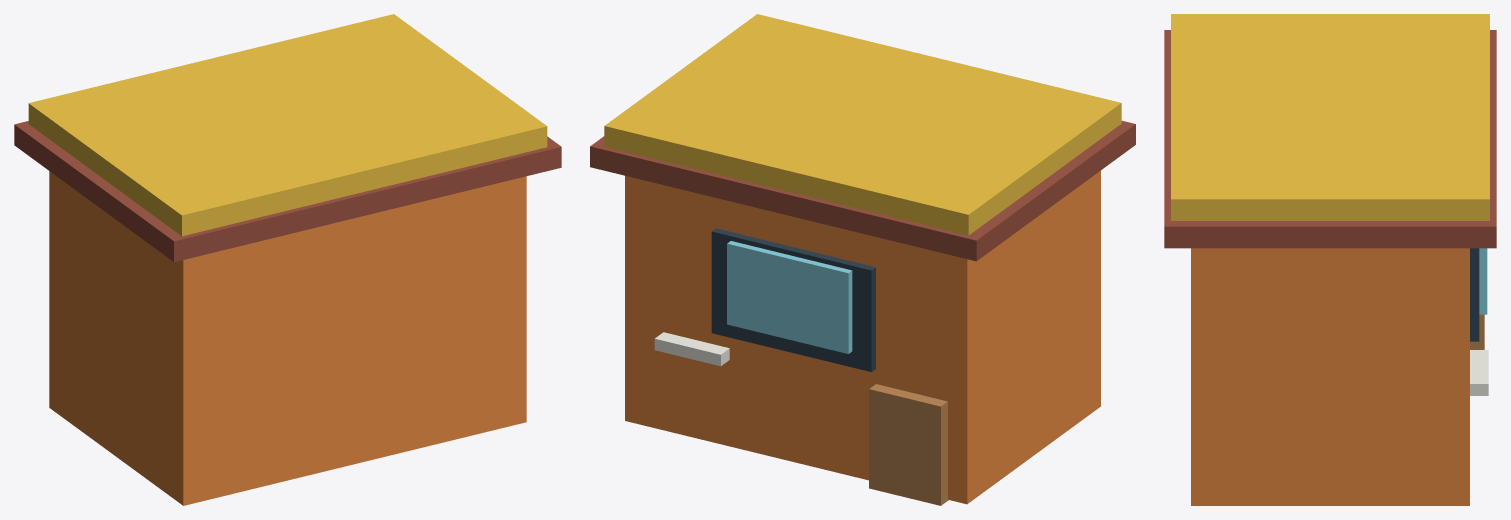
The picture shows the model from 3 angles, left to right: view 1: azimuth 30°, elevation 25°; view 2: azimuth 150°, elevation 25°; view 3: azimuth 270°, elevation 25°; orthographic projection. The views are drawn at different scales.
Visible parts, largest first — view 1: kiosk, roof-cap, awning; view 2: kiosk, roof-cap, awning, window, counter, service-window, menu; view 3: kiosk, roof-cap, awning, service-window, menu, window.
Boxes of the visible parts, x1,y1,x2,y2 form: kiosk: (49, 171, 526, 505); roof-cap: (28, 14, 547, 236); awning: (14, 121, 561, 262); kiosk: (625, 170, 1100, 504); roof-cap: (604, 14, 1121, 235); awning: (590, 120, 1135, 261); window: (727, 241, 852, 353); counter: (869, 384, 948, 505); service-window: (711, 228, 875, 371); menu: (654, 332, 729, 366); kiosk: (1191, 248, 1469, 505); roof-cap: (1171, 14, 1489, 220); awning: (1164, 30, 1496, 248); service-window: (1470, 248, 1479, 341); menu: (1470, 350, 1488, 395); window: (1479, 248, 1487, 314).
Size of the model in its own units: 3.5 by 2.6 by 2.5.
